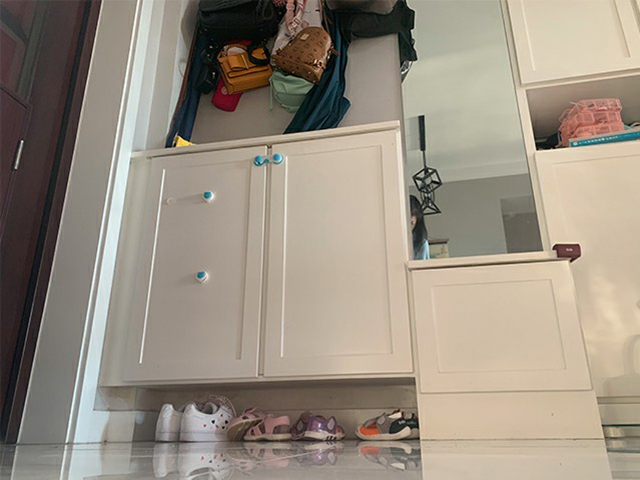cabinet: (501, 1, 640, 440), (405, 243, 604, 441)
